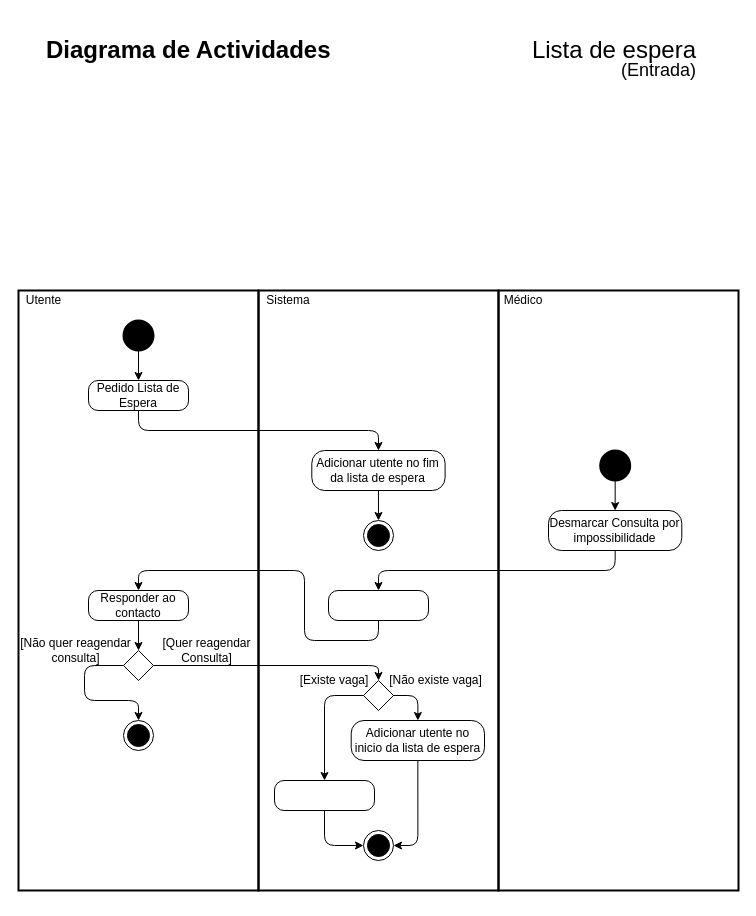
The diagram is 756 pixels wide and 916 high, and some of its shapes have lost their labels. The shapes that lost their labels are listed below. From the top down, each one's centre as x and y in pixels, then its label:
At pixel 378 605: "Contactar Utente".
At pixel 324 795: "Marcar Consulta".
